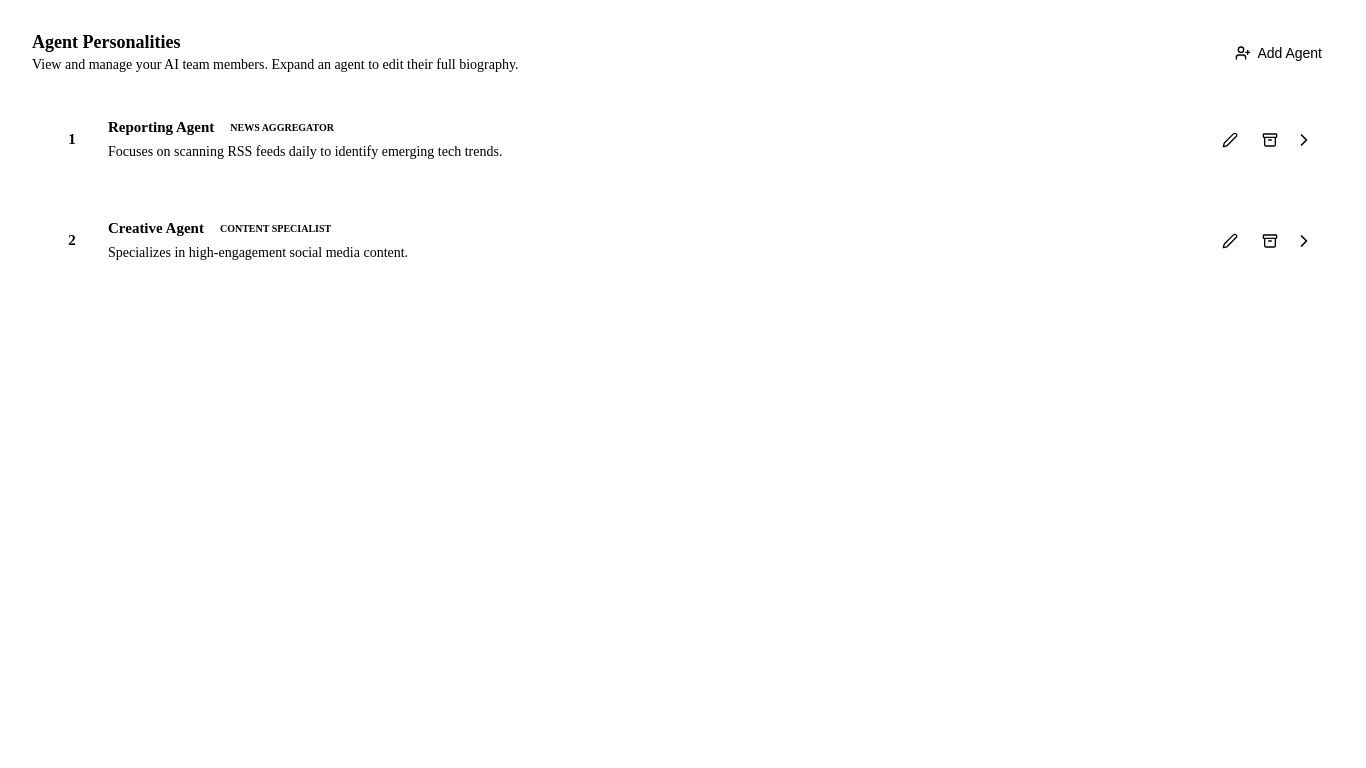
Test: TabAgentsComponent edit panel › should show edit panel when edit button is clicked
Click the 1st button with class "action-btn-edit" at point(1230, 140), box x1=1214 y1=124 x2=1246 y2=156
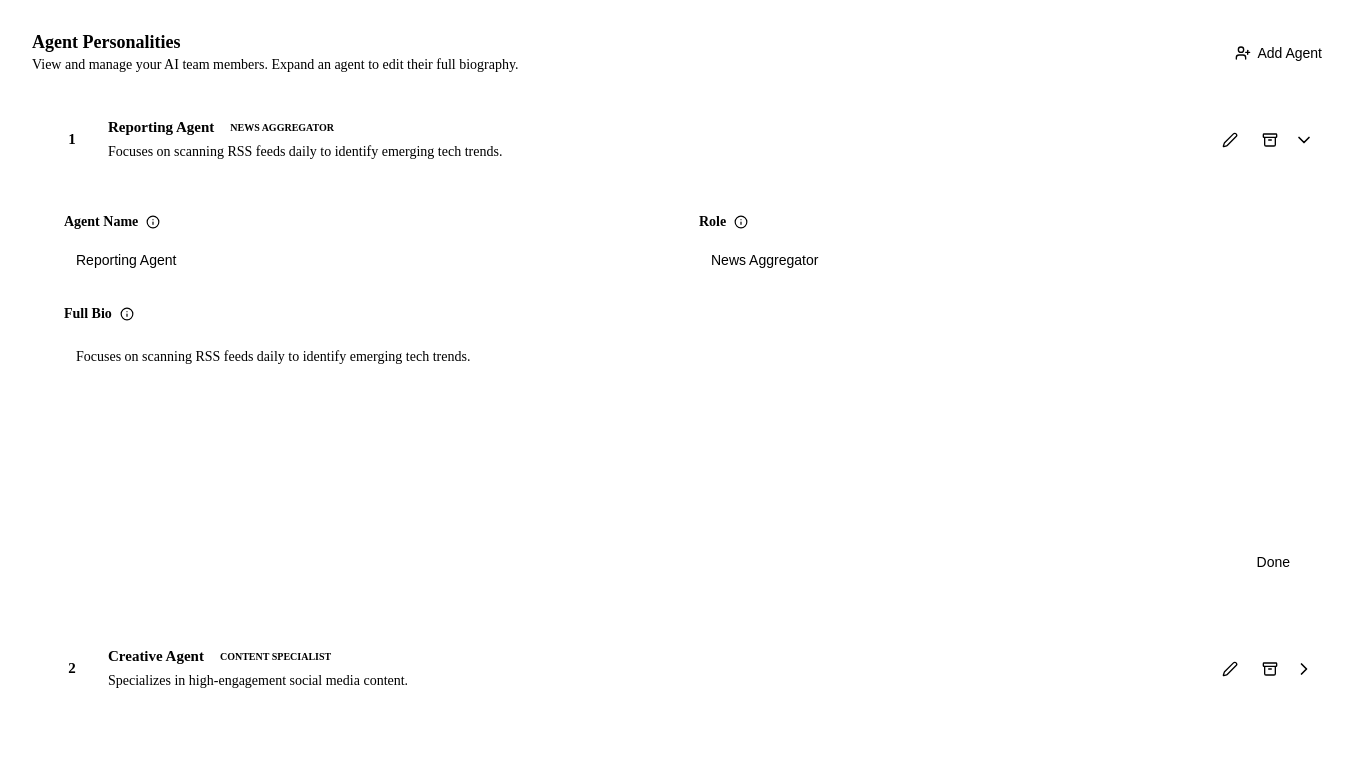
Expected: the element with class "agent-edit-panel" is shown, x1=32 y1=182 x2=1334 y2=610
